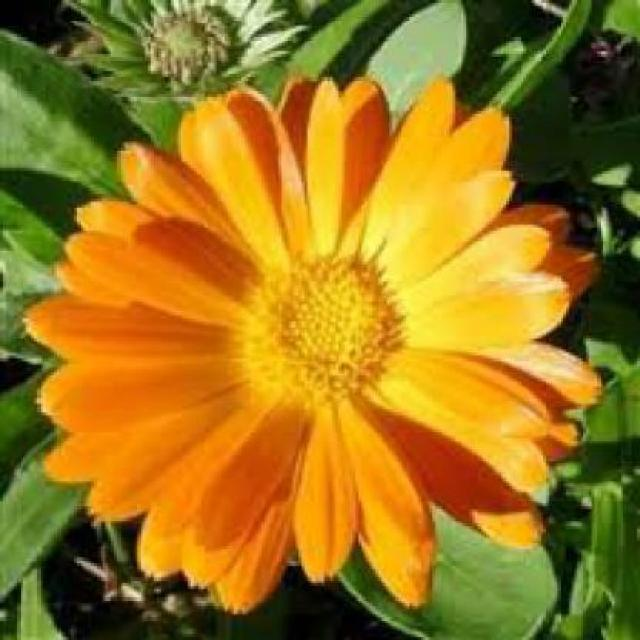Flower: (23, 73, 603, 615), (248, 256, 402, 402)
